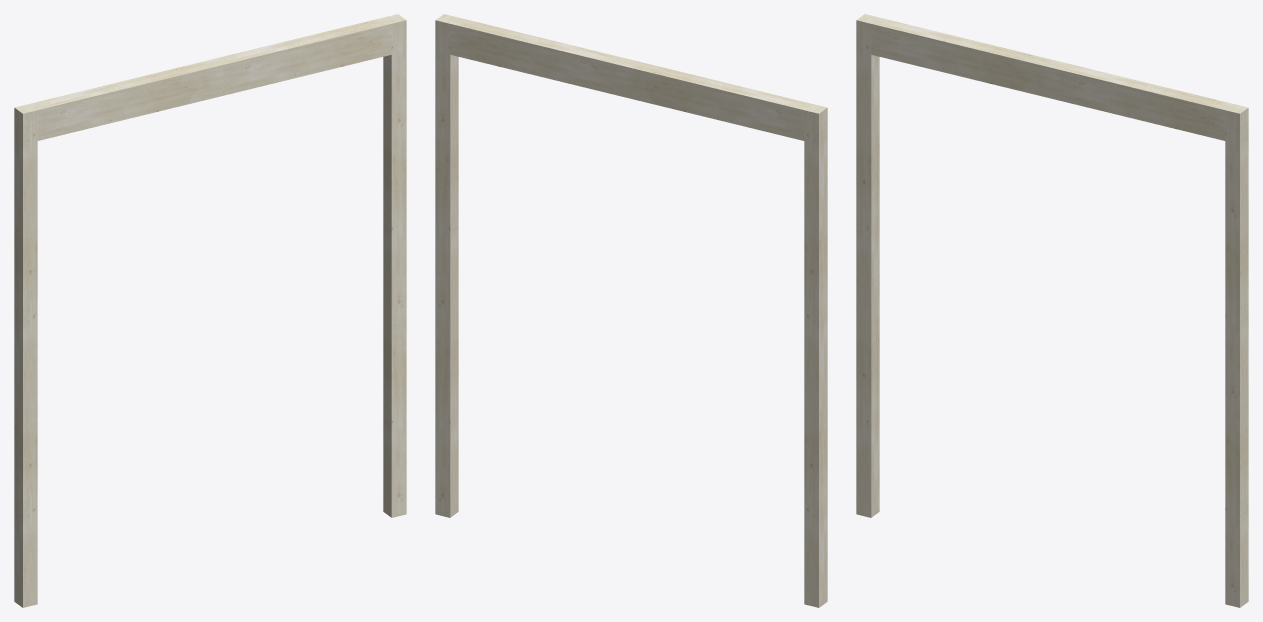
File: es-flame_h2400-w1800_whitepine.fbx
3 views of the same model, side by side, from view 1: azimuth 30°, elevation 25°; view 2: azimuth 150°, elevation 25°; view 3: azimuth 330°, elevation 25° (orthographic).
Parts seen in each view (by area): view 1: es-flame_h2400-w1800_whitepine; view 2: es-flame_h2400-w1800_whitepine; view 3: es-flame_h2400-w1800_whitepine.
Part boxes in pixels (x1,y1,x2,y2): es-flame_h2400-w1800_whitepine: (14, 14, 406, 607); es-flame_h2400-w1800_whitepine: (435, 14, 827, 607); es-flame_h2400-w1800_whitepine: (856, 14, 1248, 607).
Size of the model in its own units: 195 by 240 by 7.5.
Materials: 1 (1 with a texture image).
